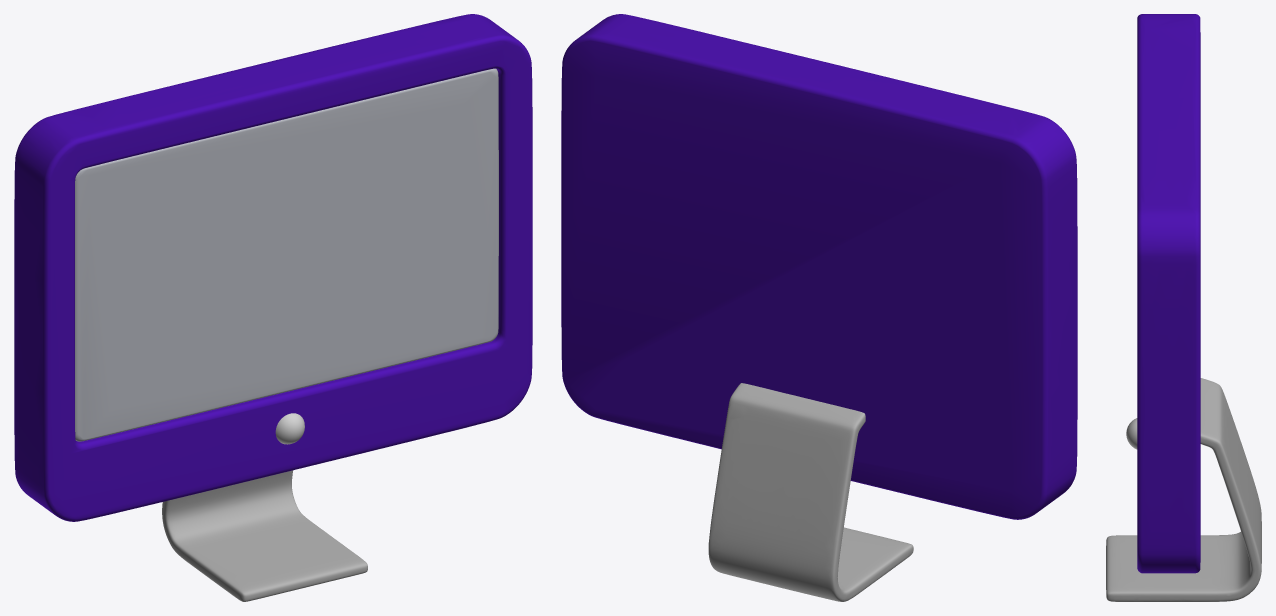
Rendered from computer.glb.
3 views of the same model, side by side, from view 1: azimuth 30°, elevation 25°; view 2: azimuth 150°, elevation 25°; view 3: azimuth 270°, elevation 25° (orthographic). The views are drawn at different scales.
Parts seen in each view (by area): view 1: Monitor; view 2: Monitor; view 3: Monitor.
Boxes of the visible parts, x1,y1,x2,y2 form: Monitor: (14,14,532,601); Monitor: (561,14,1077,601); Monitor: (1106,14,1261,601).
Size of the model in its own units: 1.88 by 1.8 by 0.5495.
